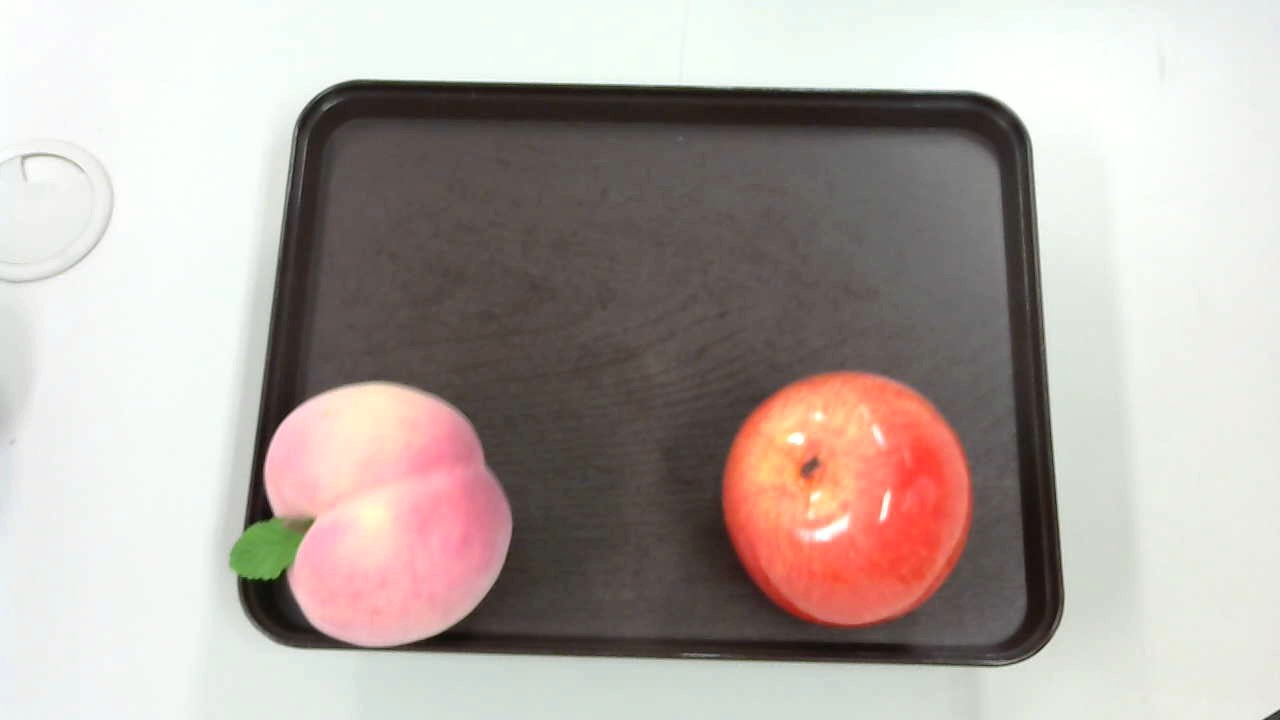peach: (224, 380, 514, 652)
red apple: (716, 369, 972, 637)
